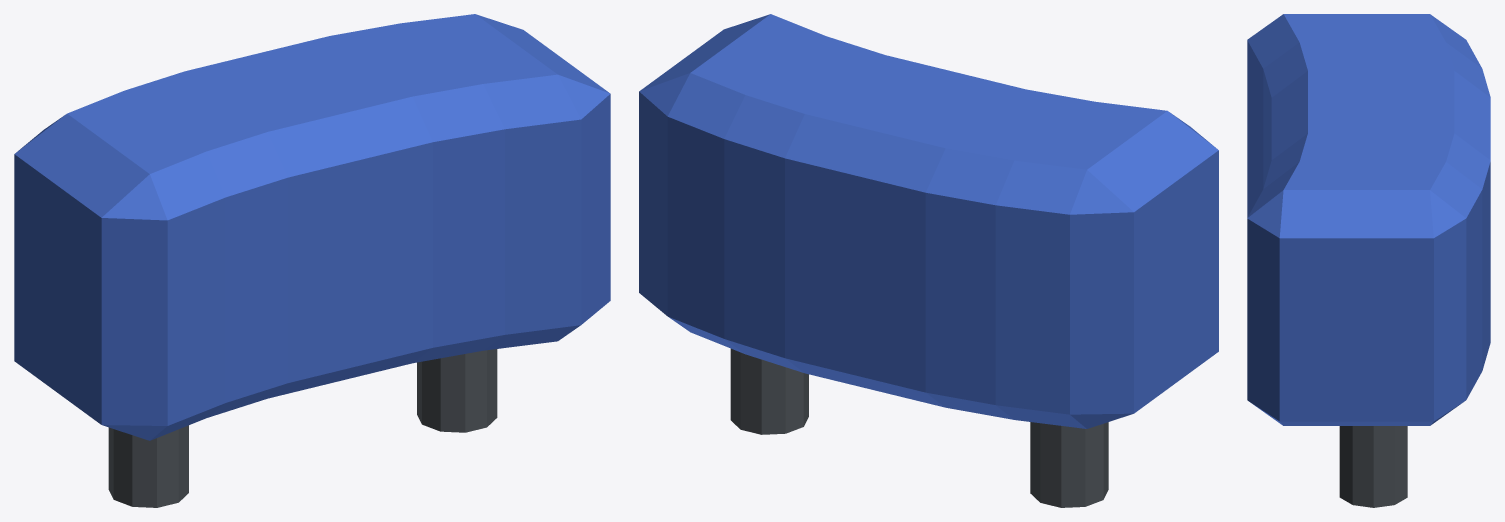
Rendered from Personal_Vehicle_02_Head_Rest_Blue.fbx.
The picture shows the model from 3 angles, left to right: view 1: azimuth 30°, elevation 25°; view 2: azimuth 150°, elevation 25°; view 3: azimuth 270°, elevation 25°; orthographic projection. The views are drawn at different scales.
Parts seen in each view (by area): view 1: Personal_Vehicle_02_Head_Rest_Blue; view 2: Personal_Vehicle_02_Head_Rest_Blue; view 3: Personal_Vehicle_02_Head_Rest_Blue.
Boxes of the visible parts, box(x1,y1,x2,y2) form: Personal_Vehicle_02_Head_Rest_Blue: box(14, 14, 610, 507); Personal_Vehicle_02_Head_Rest_Blue: box(639, 14, 1218, 507); Personal_Vehicle_02_Head_Rest_Blue: box(1247, 14, 1490, 507).
Bounding box in the file's own units: 28.13 × 19.35 × 13.18.
1 material, 1 textured.
